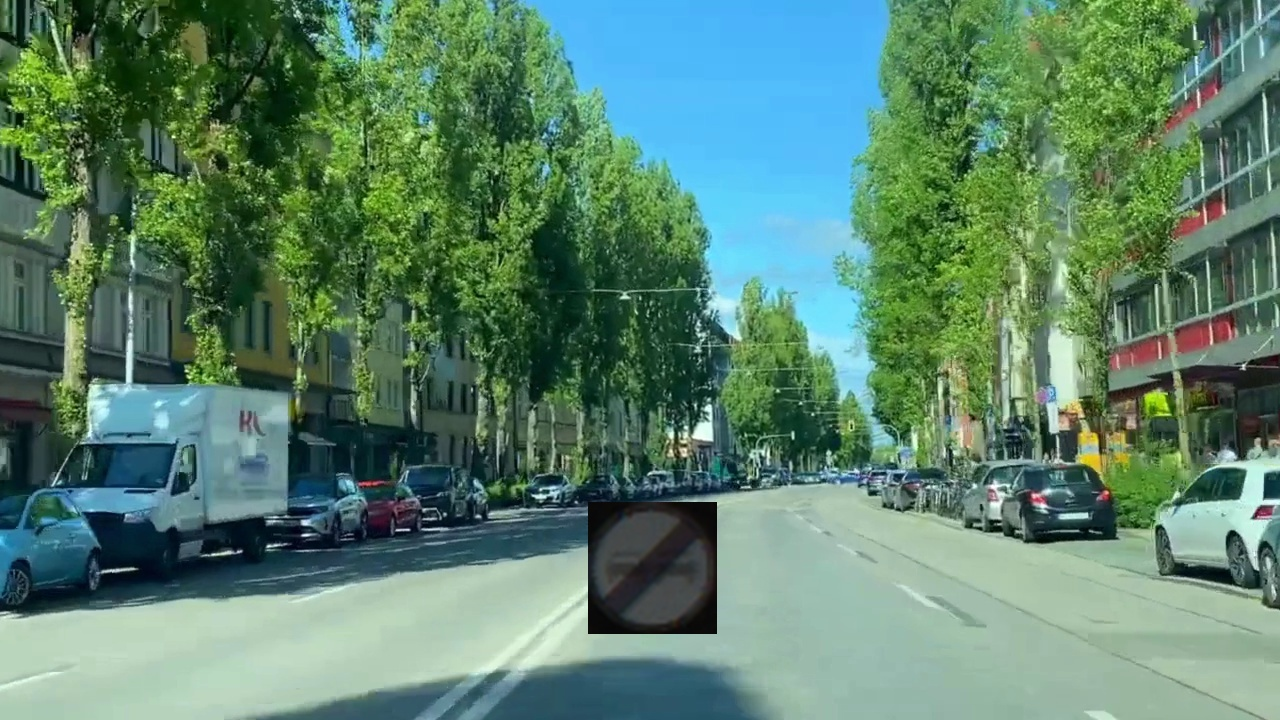End no pass: (588, 502, 717, 634)
